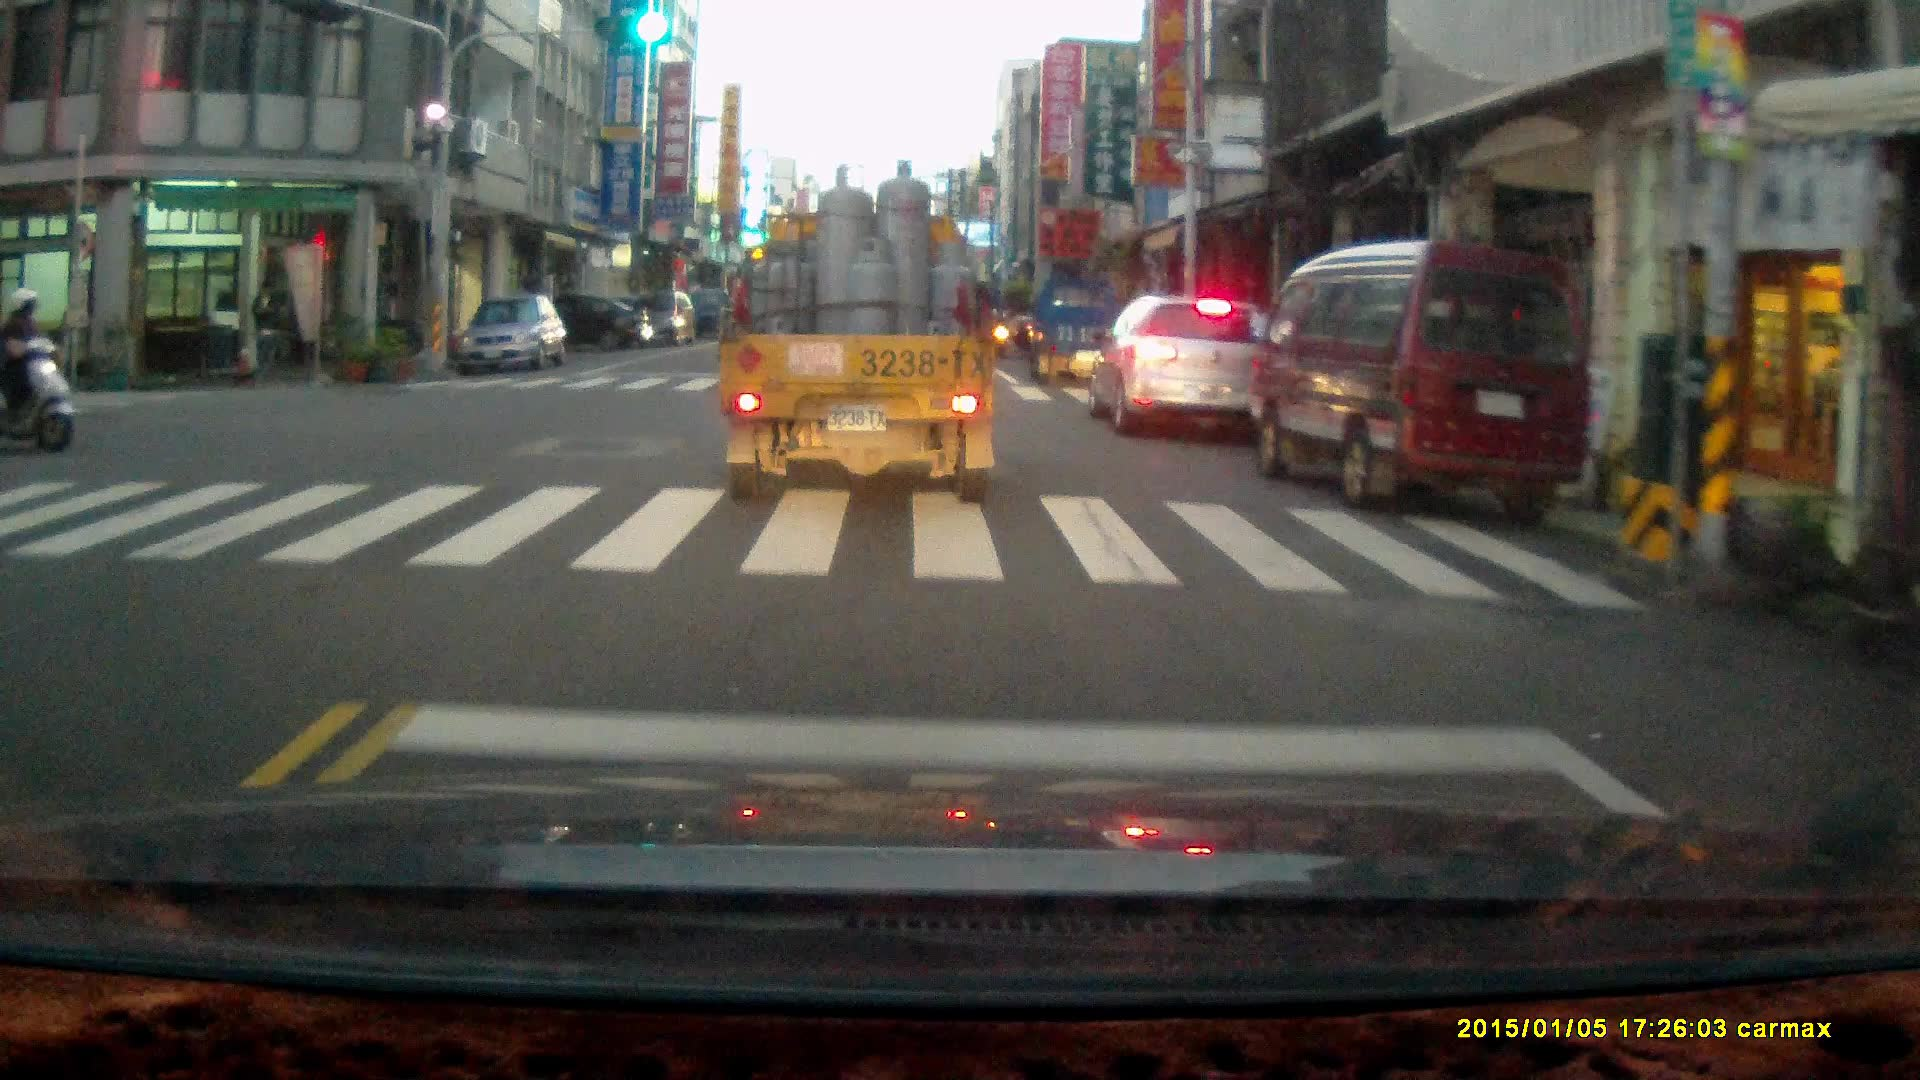pedestrian: (248, 275, 282, 384)
rider: (0, 285, 71, 451)
vehicle: (722, 162, 998, 513), (1255, 241, 1591, 524), (1087, 289, 1283, 449), (1031, 276, 1138, 395), (504, 296, 648, 360), (461, 299, 571, 378), (606, 291, 695, 347)
